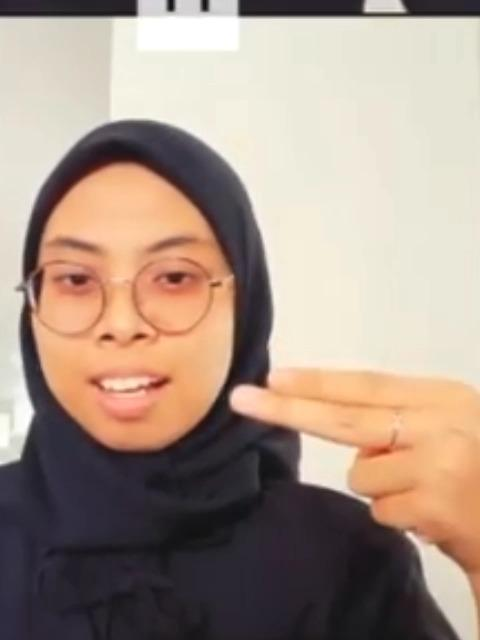H: (224, 363, 480, 567)
